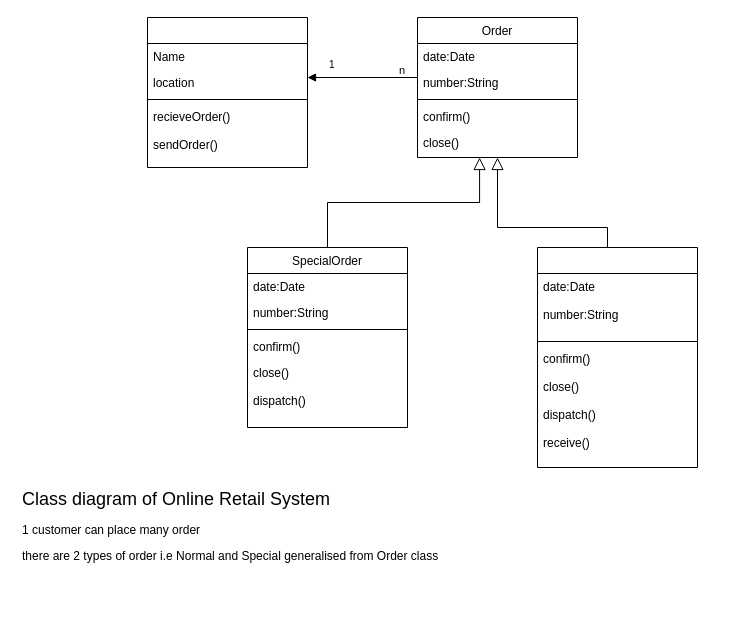
The diagram is 744 pixels wide and 625 high, and some of its shapes have lost their labels. The shapes that lost their labels are listed below. From the top down, each one's box as (x1, y1, x2, y2) in pixels, then its label:
(146, 16, 308, 168): Customer
(536, 246, 698, 468): NormalOrder
